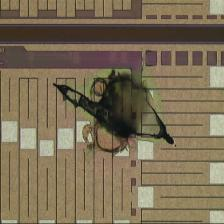PARTICLE: (53, 65, 180, 159)
